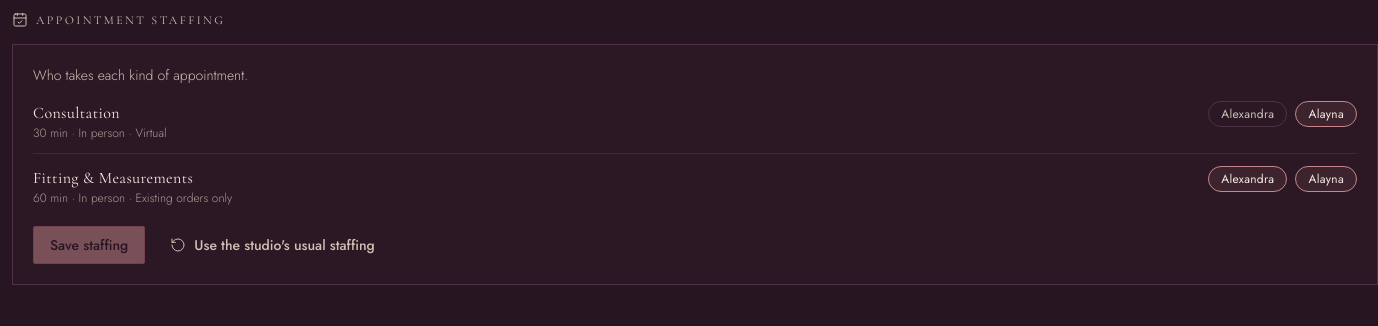
Test: StudioAppointmentStaff › keeps Save disabled until something actually changes
The image size is (1378, 326).
Expected: the button with test id "appointment-staff-save" is disabled, [33,226,145,264]
Click the button with test id "appointment-staff-fitting-alayna" at (1326, 179), box [1296,166,1357,192]
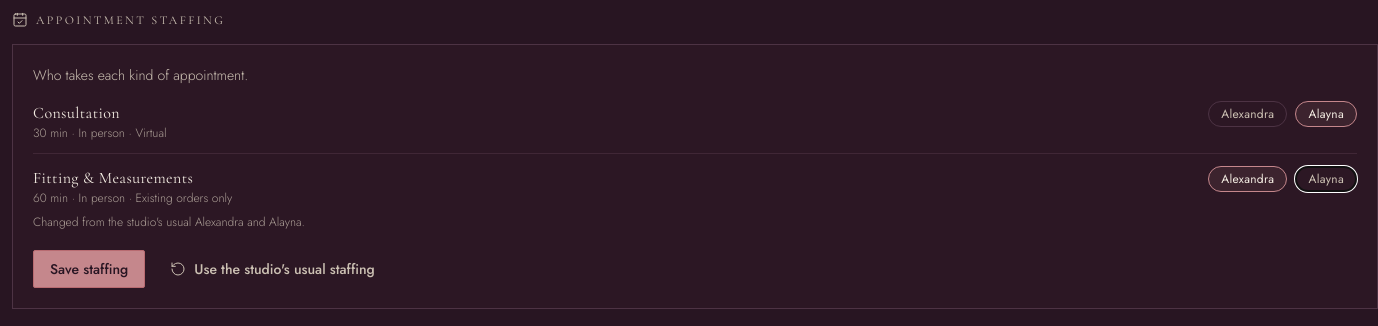
Expected: the button with test id "appointment-staff-save" is enabled, [33,250,145,288]
